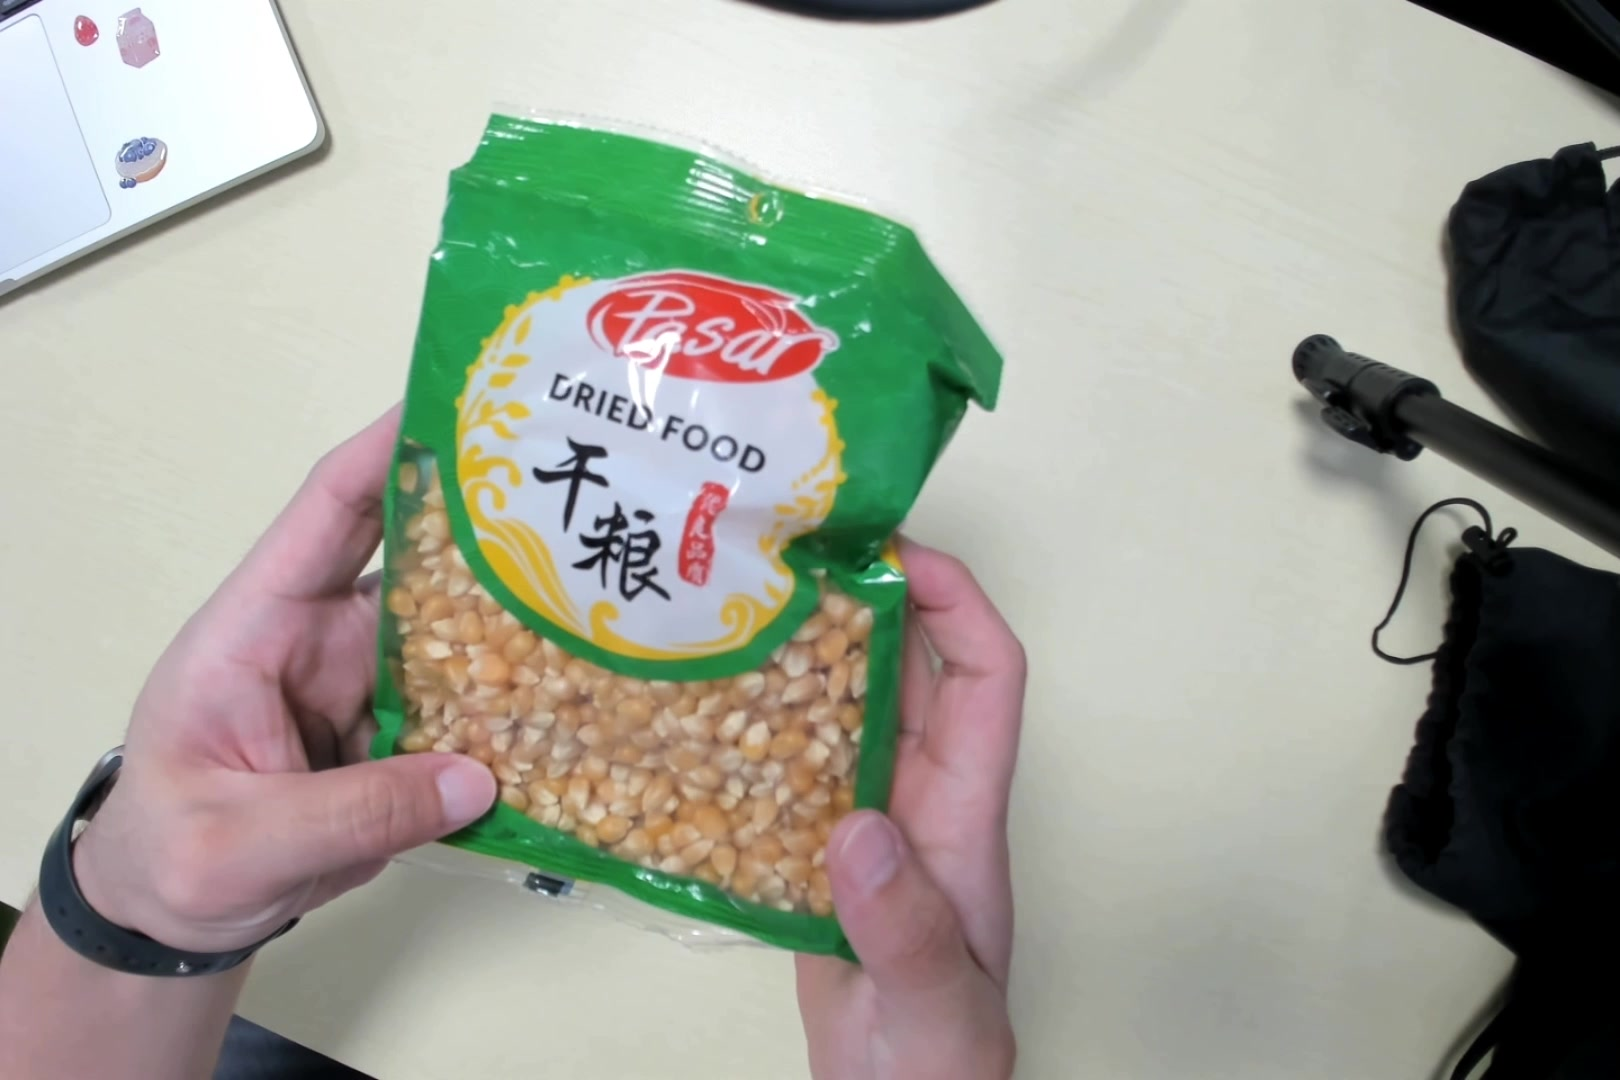DriedBeans(RedGreenSdy)_400-499g_NonHalal_NonHealthy: (369, 133, 910, 952)
